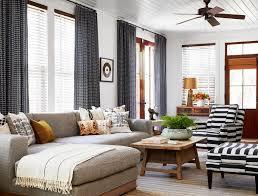chair: (191, 106, 250, 149), (206, 143, 258, 191)
clock: (102, 59, 111, 79)
door: (134, 39, 144, 119), (143, 41, 152, 121)
fan: (166, 0, 247, 33)
light: (182, 74, 197, 108)
sofa: (0, 111, 160, 196)
table: (131, 136, 206, 179), (175, 106, 211, 123)
